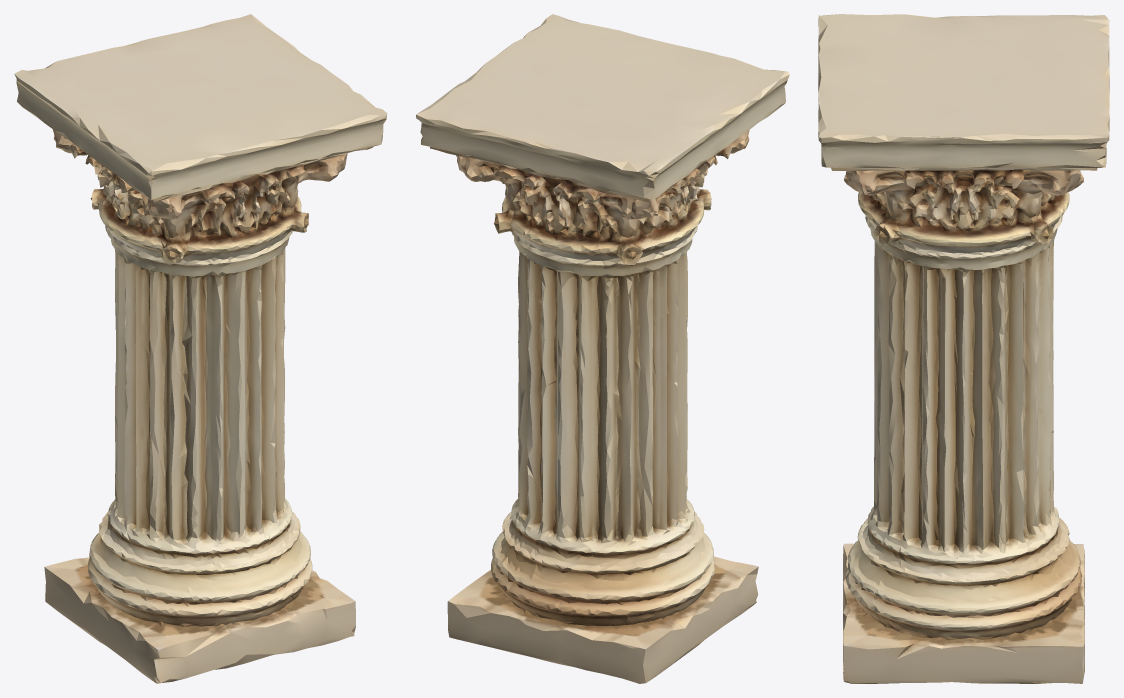
Rendered from ornate_stone_pillar.glb.
3 renders of one model, left to right at view 1: azimuth 30°, elevation 25°; view 2: azimuth 150°, elevation 25°; view 3: azimuth 270°, elevation 25°, orthographic. The views are drawn at different scales.
Parts seen in each view (by area): view 1: ornate_stone_pillar; view 2: ornate_stone_pillar; view 3: ornate_stone_pillar.
Boxes of the visible parts, x1,y1,x2,y2 form: ornate_stone_pillar: (14,14,387,683); ornate_stone_pillar: (416,14,789,683); ornate_stone_pillar: (818,14,1109,683).
Size of the model in its own units: 0.9005 by 1.9 by 0.8989.
Materials: 1 (1 with a texture image).
